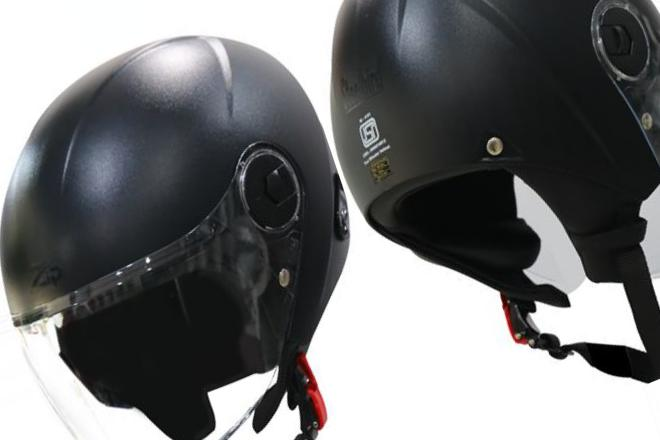helmet: (1, 34, 351, 440)
